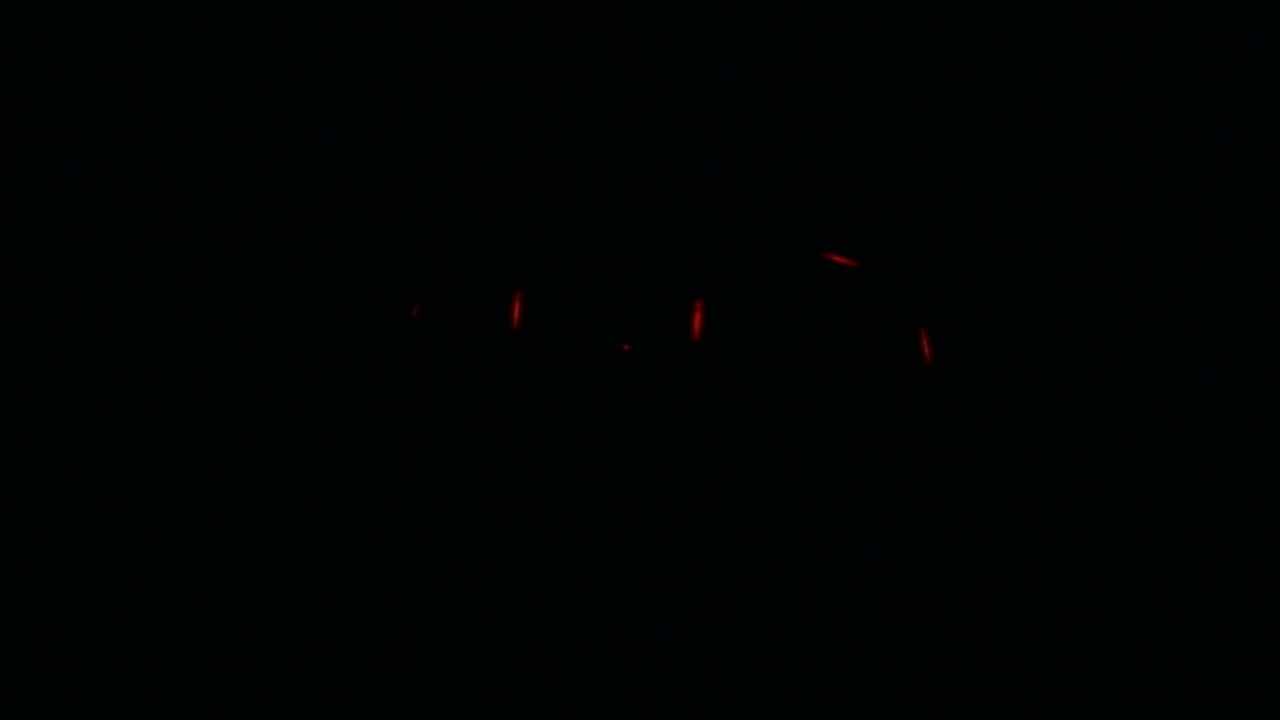lamp: (685, 289, 705, 340), (917, 325, 938, 366), (510, 288, 522, 340)
notpair2: (687, 292, 937, 367)
pair2: (509, 291, 706, 340)
